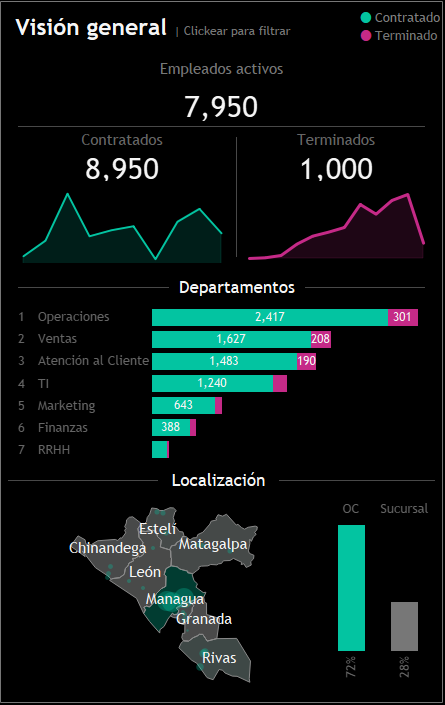

The page's visual inventory and layout, read from the dashboard file:
{"tool":"tableau","page":{"name":"RRHH | Resumen","canvas":[1400,800],"ordinal":1},"visuals":[{"type":"blank","box":[90,0,1310,235]},{"type":"text","box":[135,0,750,70]},{"type":"filter","title":"Género vs Nivel de educación","param":"[federated.0thclkt1drchb31chm2qm0e26e09].[none:género:nk]","box":[709,0,151.2,67]},{"type":"filter","title":"Género vs Nivel de educación","param":"[federated.0thclkt1drchb31chm2qm0e26e09].[none:Calculation_647111035584040960:nk","box":[860.2,0,151.2,67]},{"type":"blank","box":[885,0,495,70]},{"type":"filter","title":"Género vs Nivel de educación","param":"[federated.0thclkt1drchb31chm2qm0e26e09].[none:Calculation_594193739702493189:nk","box":[1011.5,0,151.2,67]},{"type":"filter","title":"Género vs Nivel de educación","param":"[federated.0thclkt1drchb31chm2qm0e26e09].[yr:fecha_contratacion:ok]","box":[1162.7,0,151.3,67]},{"type":"text","box":[1316,6,58,30]},{"type":"image","param":"Image/Logo.png","box":[21,21,93,55]},{"type":"dashboard-object","box":[1321,30,49,36]},{"type":"text","box":[487,67,96,60]},{"type":"blank","box":[21,76,93,80]},{"type":"text","box":[143,78,427,35]},{"type":"text","box":[606,78,766,32]},{"type":"text","box":[606,110,160,29]},{"type":"blank","box":[776,110,1,279]},{"type":"text","box":[777,110,254,29]},{"type":"blank","box":[1036,110,1,279]},{"type":"text","box":[1042,110,330,29]},{"type":"text","box":[143,113,427,44]},{"type":"worksheet","title":"Sexo","mark":"Bar","rows":["Calculation_594193739691421696"],"cols":["género"],"box":[606,139,160,250]},{"type":"worksheet","title":"Niveles de educación","mark":"Bar","rows":["Calculation_594193739691421696"],"cols":["nivel_educacion"],"box":[777,139,254,100]},{"type":"worksheet","title":"Educación vs Rendimiento","mark":"Square","rows":["calificacion_desempeno"],"cols":["nivel_educacion"],"box":[1042,139,330,250]},{"type":"worksheet","title":"Activos","mark":"Text","box":[143,157,427,38]},{"type":"dashboard-object","box":[31,166,73,38]},{"type":"blank","box":[30,170,6,40]},{"type":"blank","box":[143,195,427,1]},{"type":"text","box":[143,196,228,26]},{"type":"blank","box":[371,196,1,140]},{"type":"text","box":[372,196,197.9,26]},{"type":"blank","box":[31,204,73,10]},{"type":"dashboard-object","box":[31,214,73,38]},{"type":"worksheet","title":"Contratados","mark":"Text","box":[143,222,228,32]},{"type":"worksheet","title":"Terminados","mark":"Text","box":[372,222,197.9,32]},{"type":"text","box":[90,235,1310,270]},{"type":"worksheet","title":"Edad vs Educación","mark":"Circle","rows":["Calculation_594193739725676555"],"cols":["nivel_educacion"],"box":[777,239,191,150]},{"type":"worksheet","title":"Grupos de edad","mark":"Bar","rows":["Calculation_594193739725676555"],"cols":["Calculation_594193739691421696"],"box":[968,239,63,150]},{"type":"blank","box":[31,252,73,80]},{"type":"worksheet","title":"Contratados por año","mark":"Line","rows":["Calculation_594193739691421696","Calculation_594193739691421696"],"cols":["fecha_contratacion"],"box":[143,254,228,82]},{"type":"worksheet","title":"Terminados por año","mark":"Area","rows":["Calculation_594193739691970561","Calculation_594193739691970561"],"cols":["fecha_terminacion"],"box":[372,254,197.9,82]},{"type":"text","box":[31,332,73,20]},{"type":"blank","box":[153,341,151,30]},{"type":"text","box":[304,341,136,30]},{"type":"blank","box":[440,341,120,30]},{"type":"blank","box":[31,352,73,11]},{"type":"dashboard-object","box":[31,363,73,38]},{"type":"worksheet","title":"Departamentos","mark":"Bar","rows":["Calculation_594193739701575684","departamento"],"cols":["Calculation_594193739691421696"],"box":[143,371,427,163]},{"type":"blank","box":[31,401,73,11]},{"type":"text","box":[31,412,73,22]},{"type":"text","box":[606,425,766,64]},{"type":"dashboard-object","box":[31,434,73,38]},{"type":"blank","box":[31,472,73,10]},{"type":"dashboard-object","box":[31,482,73,38]},{"type":"text","box":[606,494,363.5,29]},{"type":"blank","box":[974.5,494,1,270]},{"type":"text","box":[980.5,494,391.5,29]},{"type":"blank","box":[90,505,1310,295]},{"type":"blank","box":[31,520,73,249]},{"type":"worksheet","title":"Género vs Nivel de educación","mark":"Square","rows":["nivel_educacion"],"cols":["salario","salario"],"box":[606,523,363.5,241]},{"type":"worksheet","title":"Edad vs Salario","mark":"Shape","rows":["salario"],"cols":["Calculation_594193739724742666"],"box":[980.5,523,391.5,241]},{"type":"blank","box":[143,534,150,30]},{"type":"text","box":[293,534,121,30]},{"type":"blank","box":[414,534,156,30]},{"type":"worksheet","title":"Mapa departamentos","mark":"Multipolygon","box":[143,564,312,200]},{"type":"worksheet","title":"Localizaciones","mark":"Bar","rows":["Calculation_594193739691421696"],"cols":["Calculation_594193739702493189","Calculation_594193739730366476"],"box":[455,564,115,200]}]}

Visuals, with their boxes on the page's 1400x800 design canvas (x1, y1, x2, y2). These are canvas units, not pixel positions in the 445x705 screenshot, which may show the page scaled, cropped or inside an application window:
blank: BBox(90, 0, 1400, 235)
text: BBox(135, 0, 885, 70)
"Género vs Nivel de educación" filter: BBox(709, 0, 860, 67)
"Género vs Nivel de educación" filter: BBox(860, 0, 1011, 67)
blank: BBox(885, 0, 1380, 70)
"Género vs Nivel de educación" filter: BBox(1012, 0, 1163, 67)
"Género vs Nivel de educación" filter: BBox(1163, 0, 1314, 67)
text: BBox(1316, 6, 1374, 36)
image: BBox(21, 21, 114, 76)
dashboard-object: BBox(1321, 30, 1370, 66)
text: BBox(487, 67, 583, 127)
blank: BBox(21, 76, 114, 156)
text: BBox(143, 78, 570, 113)
text: BBox(606, 78, 1372, 110)
text: BBox(606, 110, 766, 139)
blank: BBox(776, 110, 777, 389)
text: BBox(777, 110, 1031, 139)
blank: BBox(1036, 110, 1037, 389)
text: BBox(1042, 110, 1372, 139)
text: BBox(143, 113, 570, 157)
"Sexo" worksheet (Bar marks): BBox(606, 139, 766, 389)
"Niveles de educación" worksheet (Bar marks): BBox(777, 139, 1031, 239)
"Educación vs Rendimiento" worksheet (Square marks): BBox(1042, 139, 1372, 389)
"Activos" worksheet (Text marks): BBox(143, 157, 570, 195)
dashboard-object: BBox(31, 166, 104, 204)
blank: BBox(30, 170, 36, 210)
blank: BBox(143, 195, 570, 196)
text: BBox(143, 196, 371, 222)
blank: BBox(371, 196, 372, 336)
text: BBox(372, 196, 570, 222)
blank: BBox(31, 204, 104, 214)
dashboard-object: BBox(31, 214, 104, 252)
"Contratados" worksheet (Text marks): BBox(143, 222, 371, 254)
"Terminados" worksheet (Text marks): BBox(372, 222, 570, 254)
text: BBox(90, 235, 1400, 505)
"Edad vs Educación" worksheet (Circle marks): BBox(777, 239, 968, 389)
"Grupos de edad" worksheet (Bar marks): BBox(968, 239, 1031, 389)
blank: BBox(31, 252, 104, 332)
"Contratados por año" worksheet (Line marks): BBox(143, 254, 371, 336)
"Terminados por año" worksheet (Area marks): BBox(372, 254, 570, 336)
text: BBox(31, 332, 104, 352)
blank: BBox(153, 341, 304, 371)
text: BBox(304, 341, 440, 371)
blank: BBox(440, 341, 560, 371)
blank: BBox(31, 352, 104, 363)
dashboard-object: BBox(31, 363, 104, 401)
"Departamentos" worksheet (Bar marks): BBox(143, 371, 570, 534)
blank: BBox(31, 401, 104, 412)
text: BBox(31, 412, 104, 434)
text: BBox(606, 425, 1372, 489)
dashboard-object: BBox(31, 434, 104, 472)
blank: BBox(31, 472, 104, 482)
dashboard-object: BBox(31, 482, 104, 520)
text: BBox(606, 494, 970, 523)
blank: BBox(974, 494, 976, 764)
text: BBox(980, 494, 1372, 523)
blank: BBox(90, 505, 1400, 800)
blank: BBox(31, 520, 104, 769)
"Género vs Nivel de educación" worksheet (Square marks): BBox(606, 523, 970, 764)
"Edad vs Salario" worksheet (Shape marks): BBox(980, 523, 1372, 764)
blank: BBox(143, 534, 293, 564)
text: BBox(293, 534, 414, 564)
blank: BBox(414, 534, 570, 564)
"Mapa departamentos" worksheet (Multipolygon marks): BBox(143, 564, 455, 764)
"Localizaciones" worksheet (Bar marks): BBox(455, 564, 570, 764)
